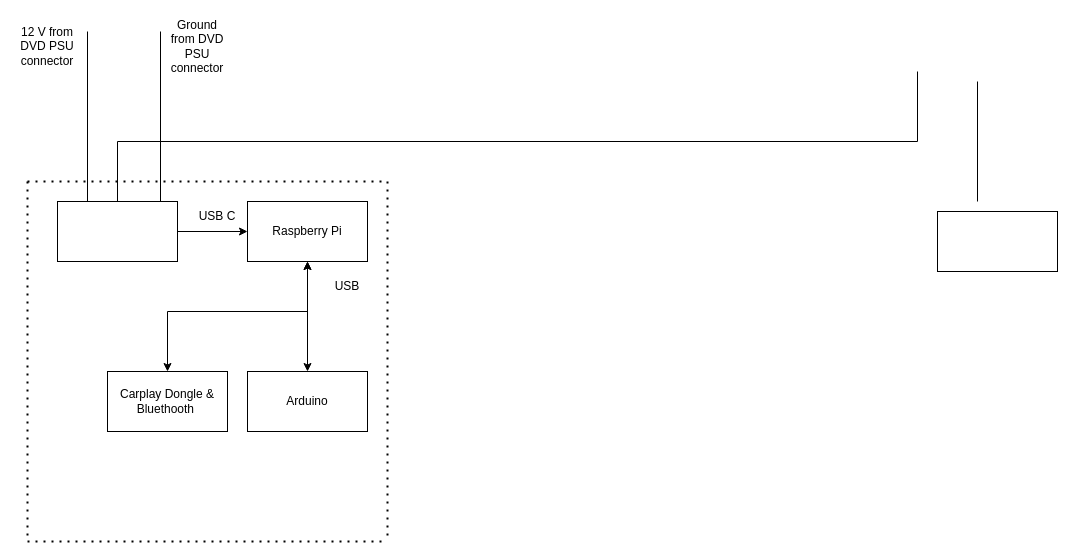
Image size: 1075x560. Some labels were removed from this diagram. Each missing label, with the centre of its shape:
Ignition switch & 12V -> 5V converter: the point at 117,231
Navigation module: the point at 997,241
